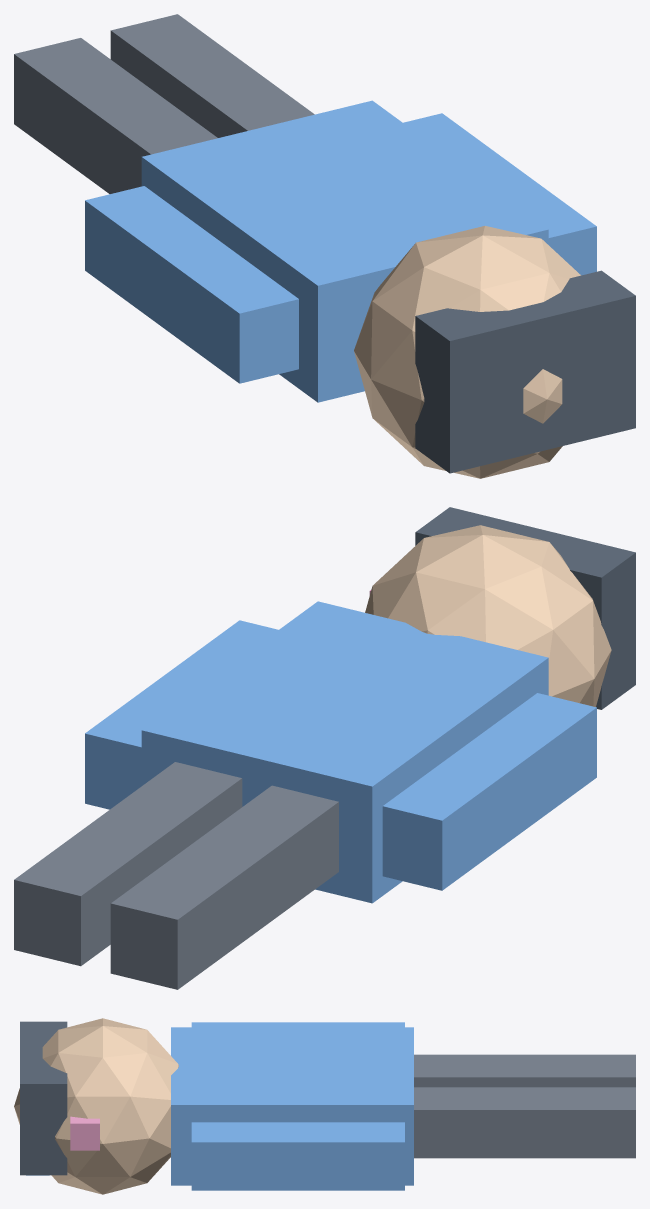
The model's file is ops_variant_1.glb.
The picture shows the model from 3 angles, top to bottom: view 1: azimuth 30°, elevation 25°; view 2: azimuth 150°, elevation 25°; view 3: azimuth 270°, elevation 25°; orthographic projection. The views are drawn at different scales.
Parts seen in each view (by area): view 1: torso_2, hair_6, arm_l_3, head_5, leg_l_0, leg_r_1, arm_r_4; view 2: torso_2, leg_l_0, arm_l_3, head_5, leg_r_1, arm_r_4, hair_6; view 3: torso_2, head_5, leg_r_1, arm_r_4, leg_l_0, hair_6, arm_l_3, earring_or_badge_8.
Part boxes in pixels (bbox=[...]): torso_2: bbox=[141, 100, 548, 402]; hair_6: bbox=[415, 270, 635, 473]; arm_l_3: bbox=[85, 186, 298, 383]; head_5: bbox=[354, 226, 580, 478]; leg_l_0: bbox=[14, 38, 217, 193]; leg_r_1: bbox=[110, 14, 314, 137]; arm_r_4: bbox=[403, 113, 596, 275]; torso_2: bbox=[141, 601, 548, 903]; leg_l_0: bbox=[110, 785, 338, 989]; arm_l_3: bbox=[382, 693, 596, 890]; head_5: bbox=[365, 525, 611, 706]; leg_r_1: bbox=[14, 762, 242, 966]; arm_r_4: bbox=[85, 620, 278, 809]; hair_6: bbox=[415, 507, 635, 709]; torso_2: bbox=[171, 1027, 413, 1185]; head_5: bbox=[14, 1018, 178, 1194]; leg_r_1: bbox=[414, 1087, 635, 1158]; arm_r_4: bbox=[191, 1122, 404, 1190]; leg_l_0: bbox=[414, 1054, 635, 1087]; hair_6: bbox=[20, 1021, 67, 1175]; arm_l_3: bbox=[191, 1022, 404, 1027]; earring_or_badge_8: bbox=[70, 1116, 99, 1150].
Bounding box in the file's own units: 0.96 × 0.6 × 2.1.
